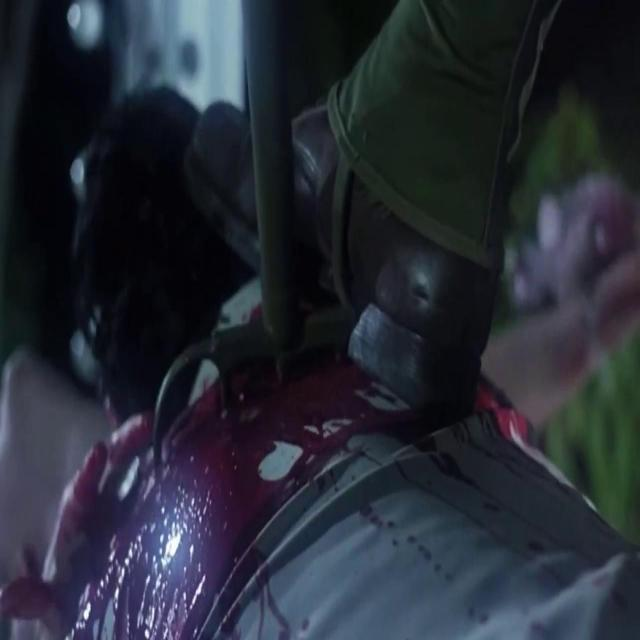flood: (65, 422, 243, 640)
